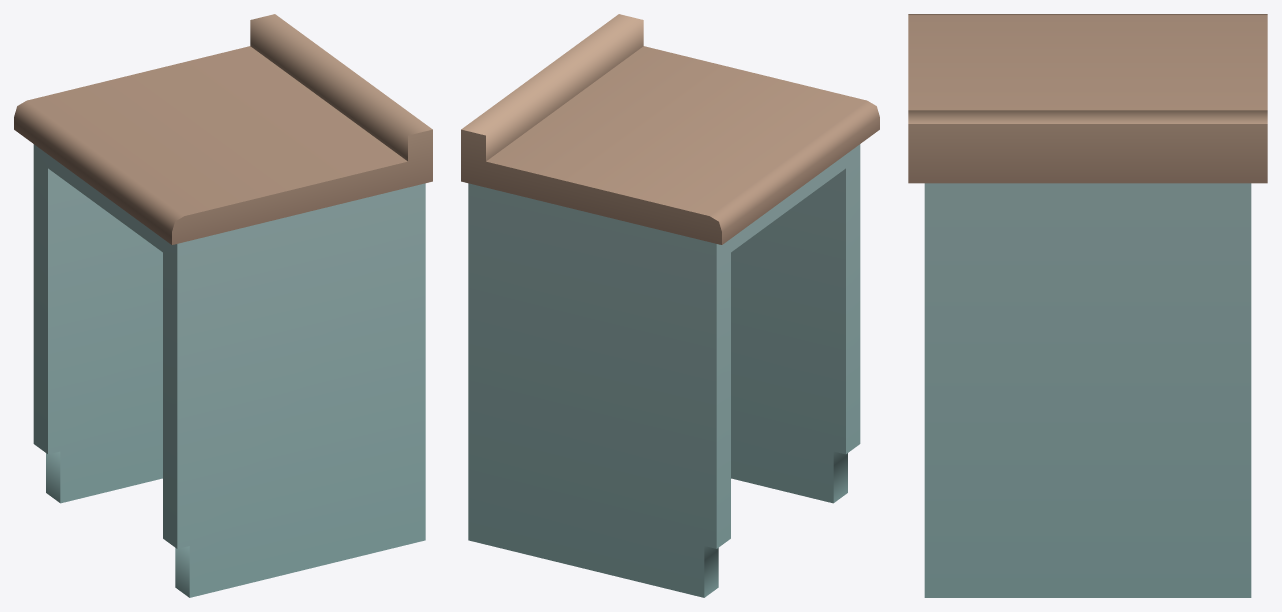
The model's file is cabinet-decorative-open.glb.
The picture shows the model from 3 angles, left to right: view 1: azimuth 30°, elevation 25°; view 2: azimuth 150°, elevation 25°; view 3: azimuth 270°, elevation 25°; orthographic projection. The views are drawn at different scales.
Parts seen in each view (by area): view 1: cabinet-decorative-open; view 2: cabinet-decorative-open; view 3: cabinet-decorative-open.
Boxes of the visible parts, x1,y1,x2,y2 form: cabinet-decorative-open: (14, 14, 432, 597); cabinet-decorative-open: (461, 14, 879, 597); cabinet-decorative-open: (908, 14, 1267, 597).
Size of the model in its own units: 0.525 by 0.8 by 0.55.
